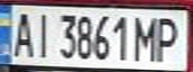1: (109, 11, 133, 62)
3: (54, 10, 78, 60)
6: (90, 11, 115, 61)
8: (72, 11, 93, 61)
A: (6, 8, 36, 59)
I: (30, 8, 57, 60)
M: (130, 12, 160, 62)
P: (151, 12, 187, 63)
